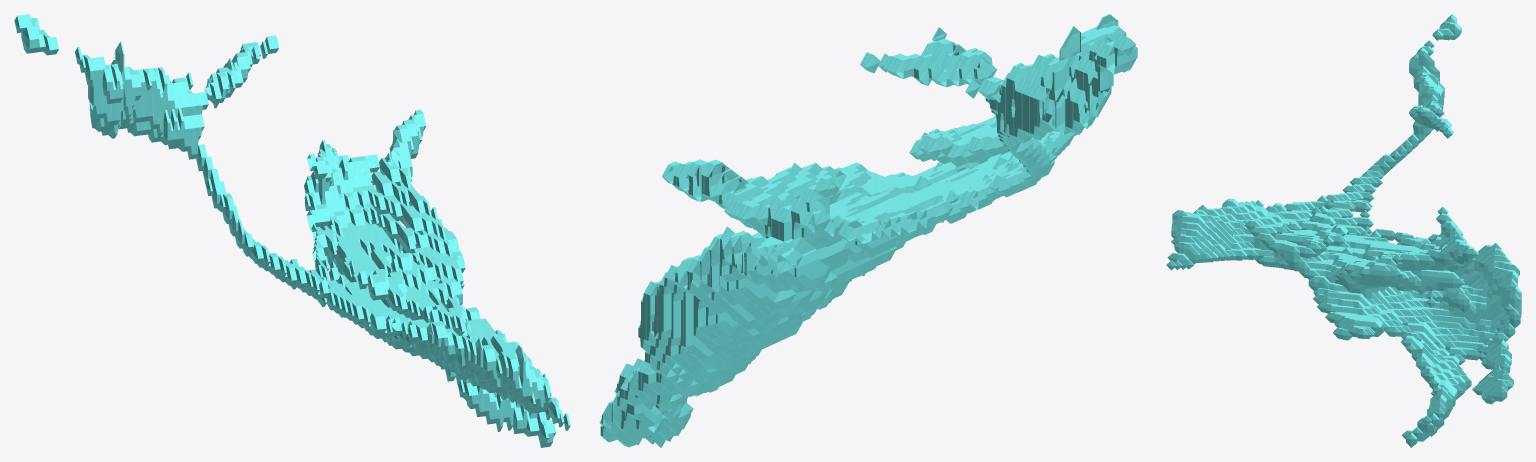
Rendered from SVV_BWM-DR01.gltf.
3 renders of one model, left to right at view 1: azimuth 30°, elevation 25°; view 2: azimuth 150°, elevation 25°; view 3: azimuth 270°, elevation 25°, orthographic. The views are drawn at different scales.
Visible parts, largest first — view 1: BWM-DR01; view 2: BWM-DR01; view 3: BWM-DR01.
Part boxes in pixels (box(x1,y1,x2,y2)): BWM-DR01: box(14, 14, 570, 447); BWM-DR01: box(599, 14, 1137, 447); BWM-DR01: box(1166, 14, 1521, 447).
Bounding box in the file's own units: 40120 × 39575 × 42931.
